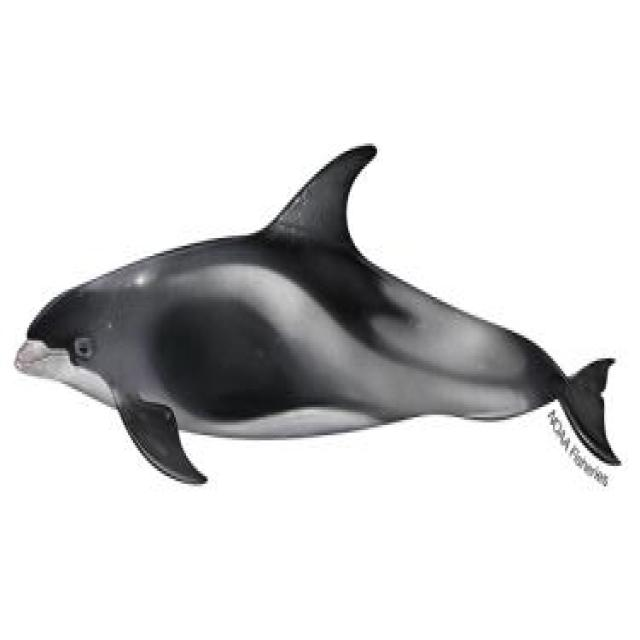penguin: (15, 146, 618, 481)
